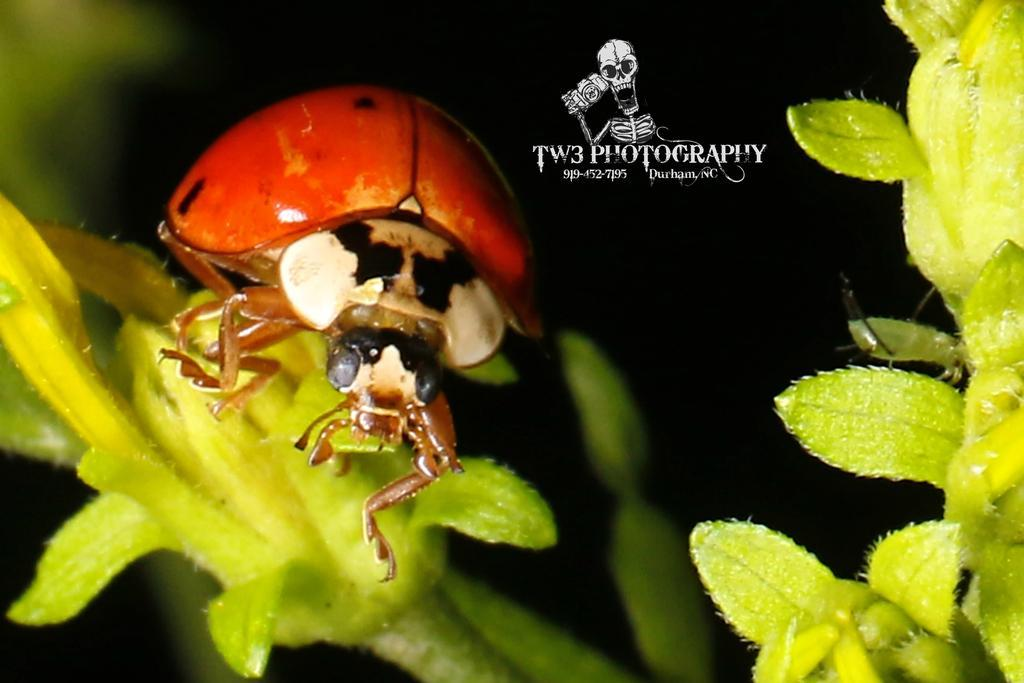ladybug: (155, 81, 553, 585)
